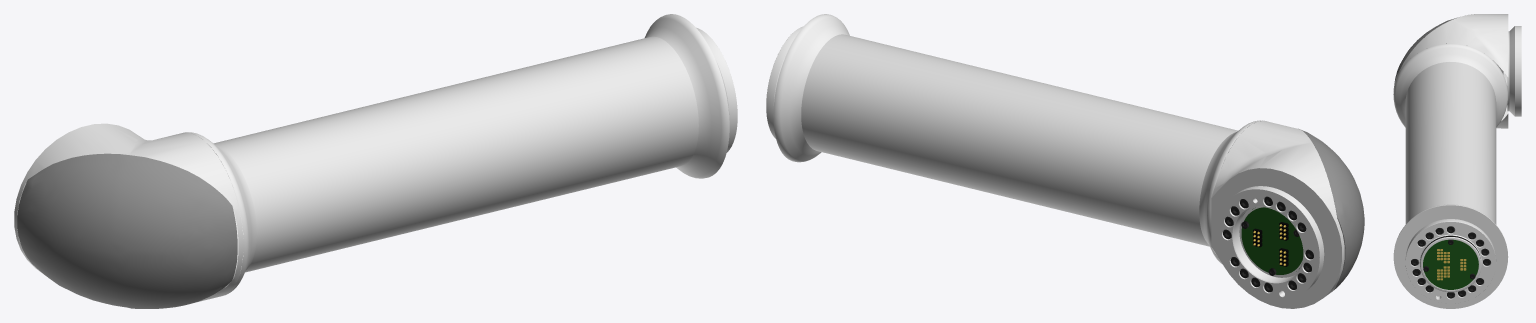
The picture shows the model from 3 angles, left to right: view 1: azimuth 30°, elevation 25°; view 2: azimuth 150°, elevation 25°; view 3: azimuth 270°, elevation 25°; orthographic projection. The views are drawn at different scales.
Parts seen in each view (by area): view 1: L86.001; view 2: L86.001; view 3: L86.001.
Part boxes in pixels (x1,y1,x2,y2): L86.001: (14, 14, 737, 308); L86.001: (766, 14, 1364, 308); L86.001: (1393, 14, 1521, 308).
Size of the model in its own units: 0.3879 by 0.0862 by 0.0961.
